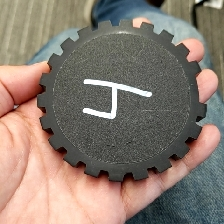gear: (35, 16, 209, 184)
missing: (186, 57, 208, 120)
